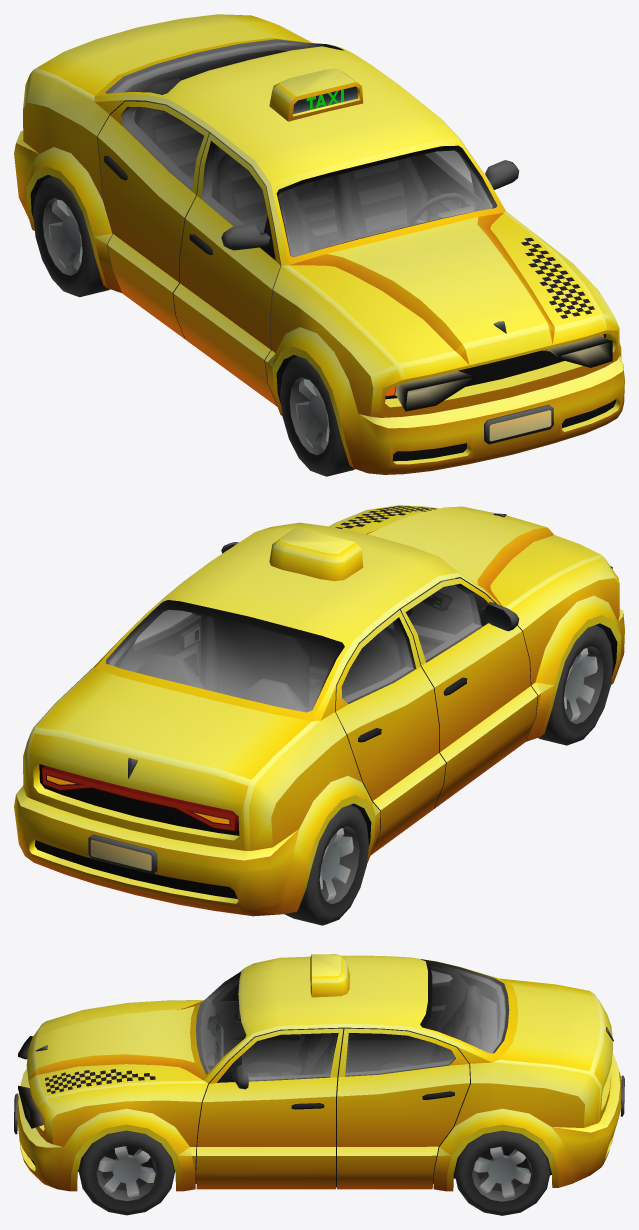
File: tp_taxi_01a.glb
The picture shows the model from 3 angles, top to bottom: view 1: azimuth 30°, elevation 25°; view 2: azimuth 150°, elevation 25°; view 3: azimuth 270°, elevation 25°; orthographic projection. The views are drawn at different scales.
Visible parts, largest first — view 1: TP_Taxi_01A_Body, TP_Taxi_01A_Door_F.R, TP_Taxi_01A_Door_R.R, TP_Taxi_01A_Wheel_R.R, TP_Taxi_01A_Wheel_F.R, TP_Taxi_01A_Door_F.L, TP_Taxi_01A_Headlights; view 2: TP_Taxi_01A_Body, TP_Taxi_01A_Door_F.R, TP_Taxi_01A_Door_R.R, TP_Taxi_01A_Wheel_R.R, TP_Taxi_01A_Wheel_F.R, TP_Taxi_01A_Door_R.L, TP_Taxi_01A_Taillights; view 3: TP_Taxi_01A_Body, TP_Taxi_01A_Door_F.L, TP_Taxi_01A_Door_R.L, TP_Taxi_01A_Wheel_R.L, TP_Taxi_01A_Wheel_F.L, TP_Taxi_01A_Door_R.R, TP_Taxi_01A_Door_F.R, TP_Taxi_01A_Headlights.
Part boxes in pixels (x1,y1,x2,y2): TP_Taxi_01A_Body: (14, 14, 624, 474); TP_Taxi_01A_Door_F.R: (173, 133, 281, 406); TP_Taxi_01A_Door_R.R: (97, 101, 211, 338); TP_Taxi_01A_Wheel_R.R: (33, 176, 109, 297); TP_Taxi_01A_Wheel_F.R: (280, 356, 354, 476); TP_Taxi_01A_Door_F.L: (416, 151, 519, 220); TP_Taxi_01A_Headlights: (396, 335, 612, 411); TP_Taxi_01A_Body: (14, 505, 624, 916); TP_Taxi_01A_Door_F.R: (399, 578, 537, 808); TP_Taxi_01A_Door_R.R: (335, 609, 445, 854); TP_Taxi_01A_Wheel_R.R: (284, 804, 368, 925); TP_Taxi_01A_Wheel_F.R: (538, 625, 613, 745); TP_Taxi_01A_Door_R.L: (120, 610, 201, 680); TP_Taxi_01A_Taillights: (42, 769, 234, 830); TP_Taxi_01A_Body: (14, 954, 624, 1191); TP_Taxi_01A_Door_F.L: (195, 1028, 343, 1189); TP_Taxi_01A_Door_R.L: (336, 1028, 470, 1189); TP_Taxi_01A_Wheel_R.L: (454, 1130, 550, 1215); TP_Taxi_01A_Wheel_F.L: (79, 1130, 174, 1215); TP_Taxi_01A_Door_R.R: (348, 966, 468, 1072); TP_Taxi_01A_Door_F.R: (212, 979, 307, 1066); TP_Taxi_01A_Headlights: (18, 1036, 44, 1128).
Bounding box in the file's own units: 2.12 × 1.81 × 4.99.
Materials: 3 (3 with a texture image).
